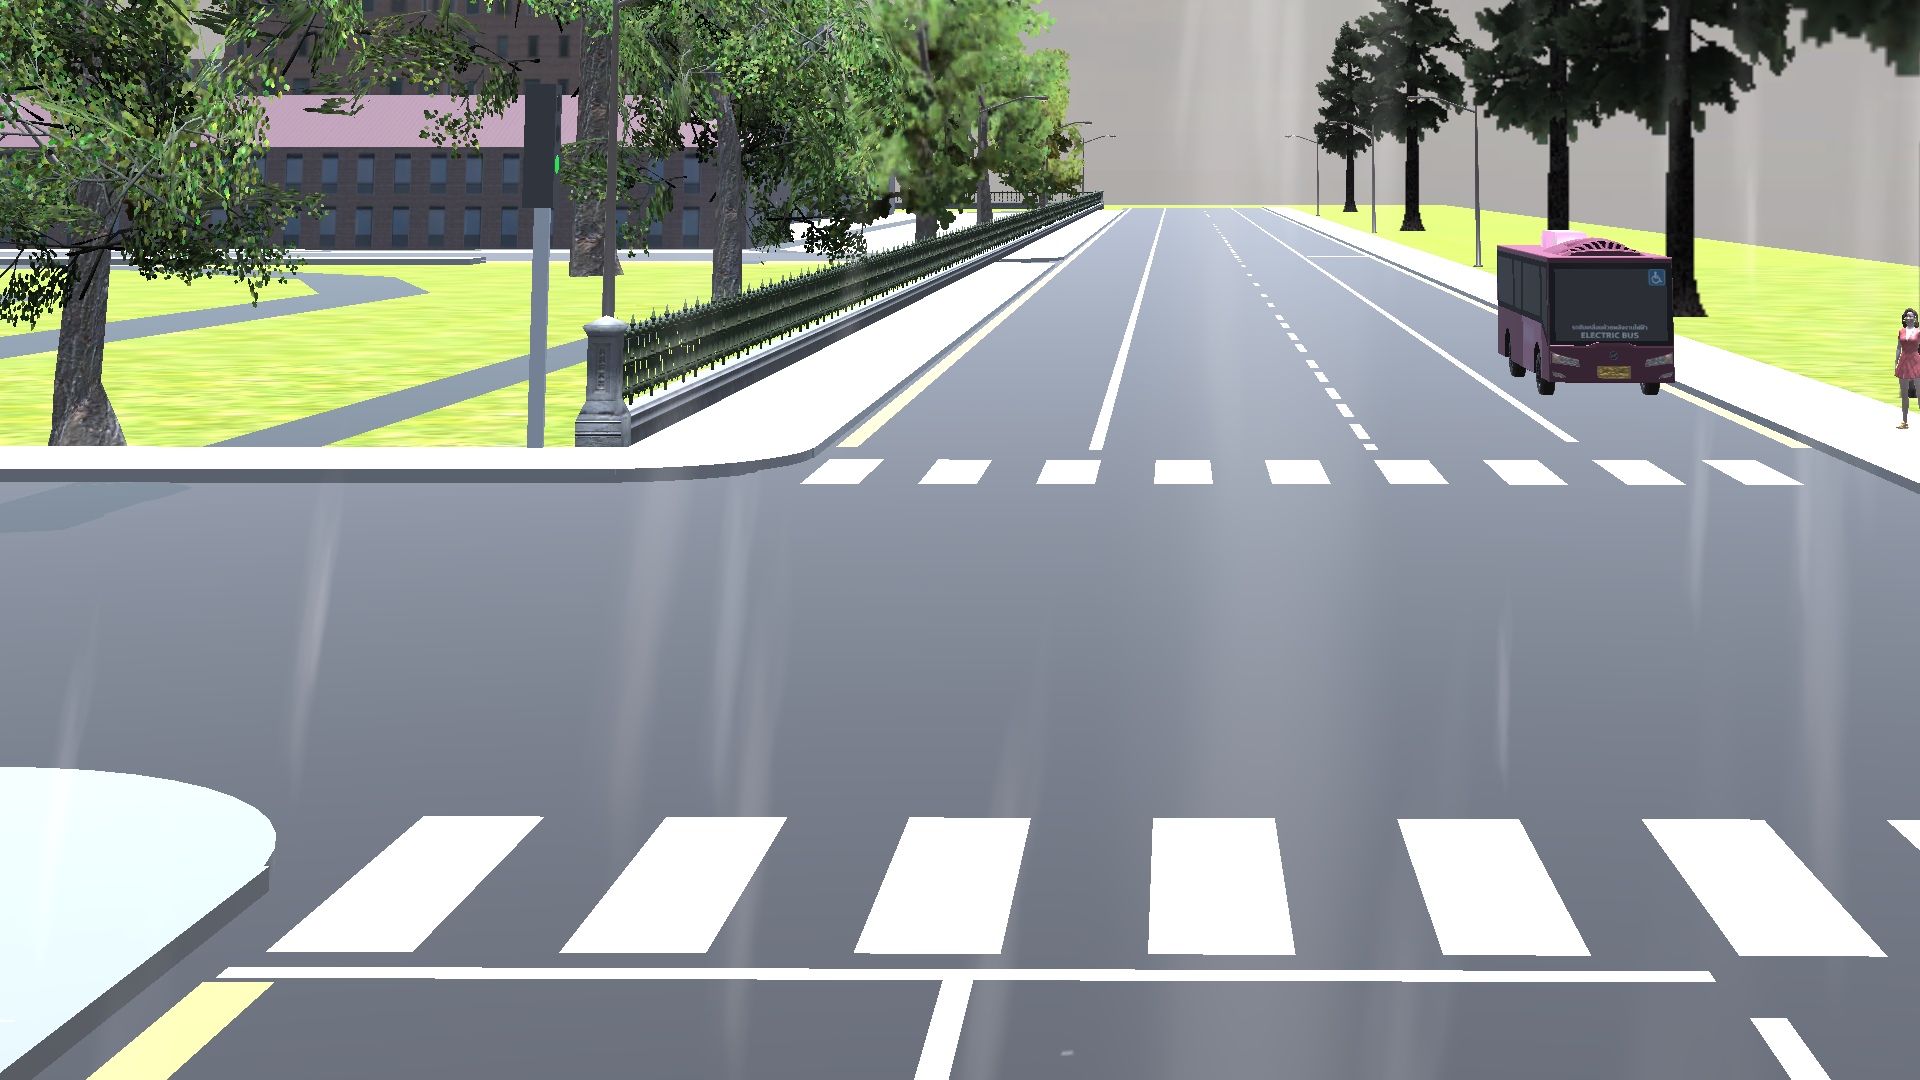pedestrian: (1888, 305, 1920, 429)
